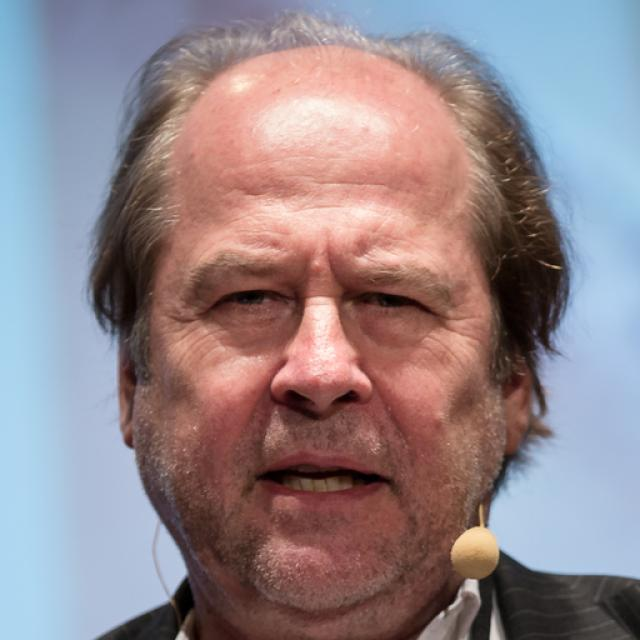Acne: (299, 252, 329, 278), (428, 411, 456, 436)
Wrinkle: (309, 176, 417, 196), (321, 231, 349, 290), (382, 230, 430, 253), (285, 200, 363, 214), (236, 223, 299, 238)
